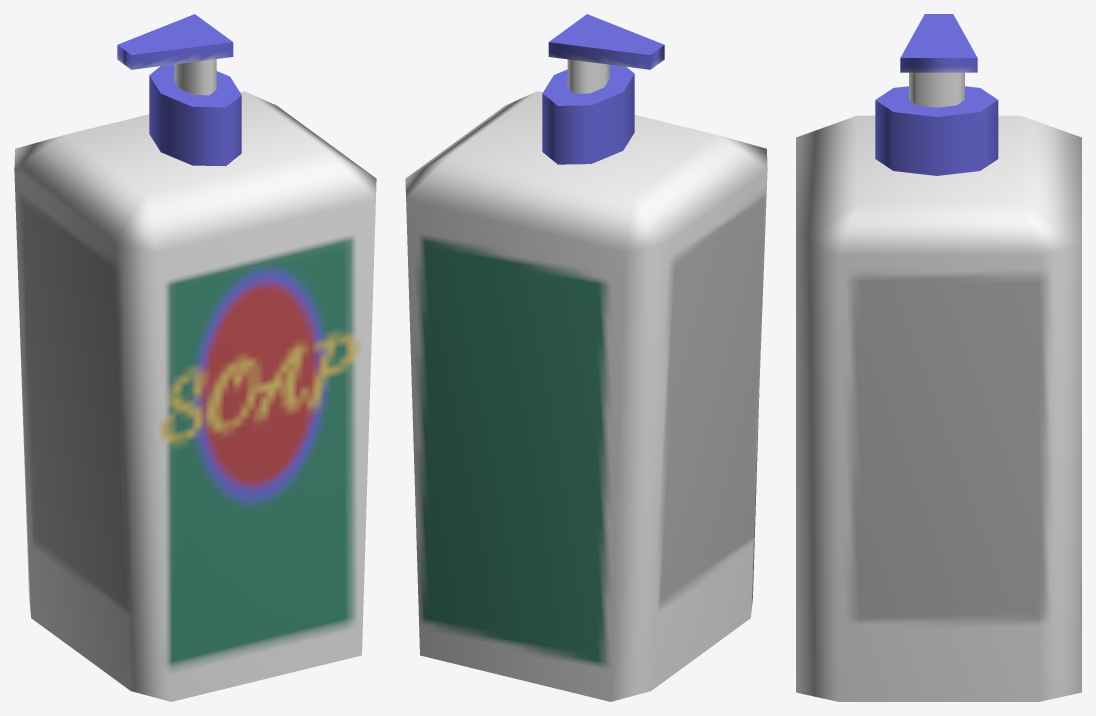
The model's file is Cleaners_07.fbx.
The picture shows the model from 3 angles, left to right: view 1: azimuth 30°, elevation 25°; view 2: azimuth 150°, elevation 25°; view 3: azimuth 270°, elevation 25°; orthographic projection.
Parts seen in each view (by area): view 1: Cleaners_07; view 2: Cleaners_07; view 3: Cleaners_07.
Part boxes in pixels (<box>): Cleaners_07: <box>14,14,376,701</box>; Cleaners_07: <box>405,14,767,701</box>; Cleaners_07: <box>796,14,1081,701</box>.
Size of the model in its own units: 6.62 by 14.31 by 6.21.
